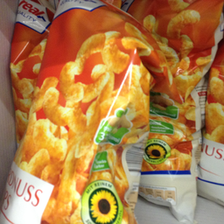chips: (4, 1, 160, 224)
